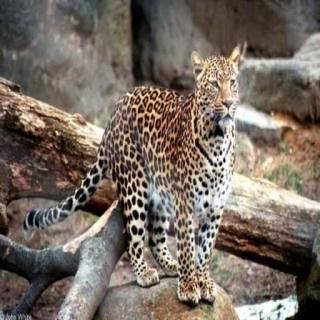Leopard: (53, 39, 286, 312)
